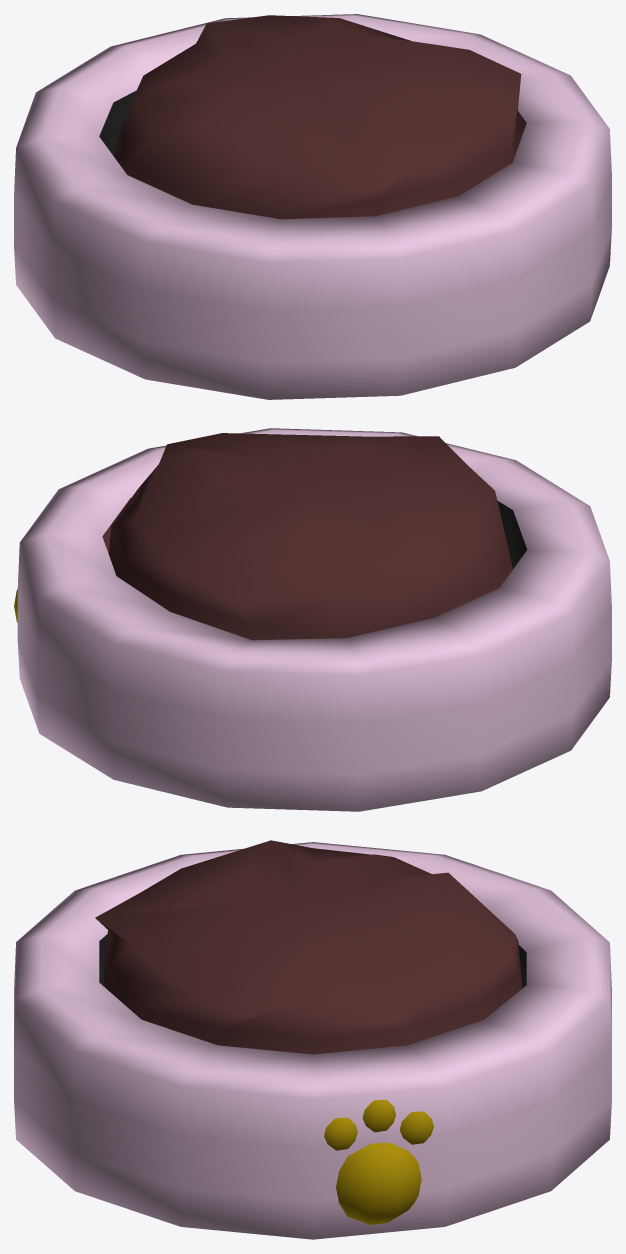
File: Voederbakje_01(1).fbx
The picture shows the model from 3 angles, top to bottom: view 1: azimuth 30°, elevation 25°; view 2: azimuth 150°, elevation 25°; view 3: azimuth 270°, elevation 25°; orthographic projection. The views are drawn at different scales.
Parts seen in each view (by area): view 1: pSphere3; view 2: pSphere3; view 3: pSphere3.
Part boxes in pixels (bbox=[...]): pSphere3: bbox=[14, 14, 611, 399]; pSphere3: bbox=[14, 428, 611, 811]; pSphere3: bbox=[14, 840, 611, 1239].
Bounding box in the file's own units: 85.88 × 33.7 × 82.57.
